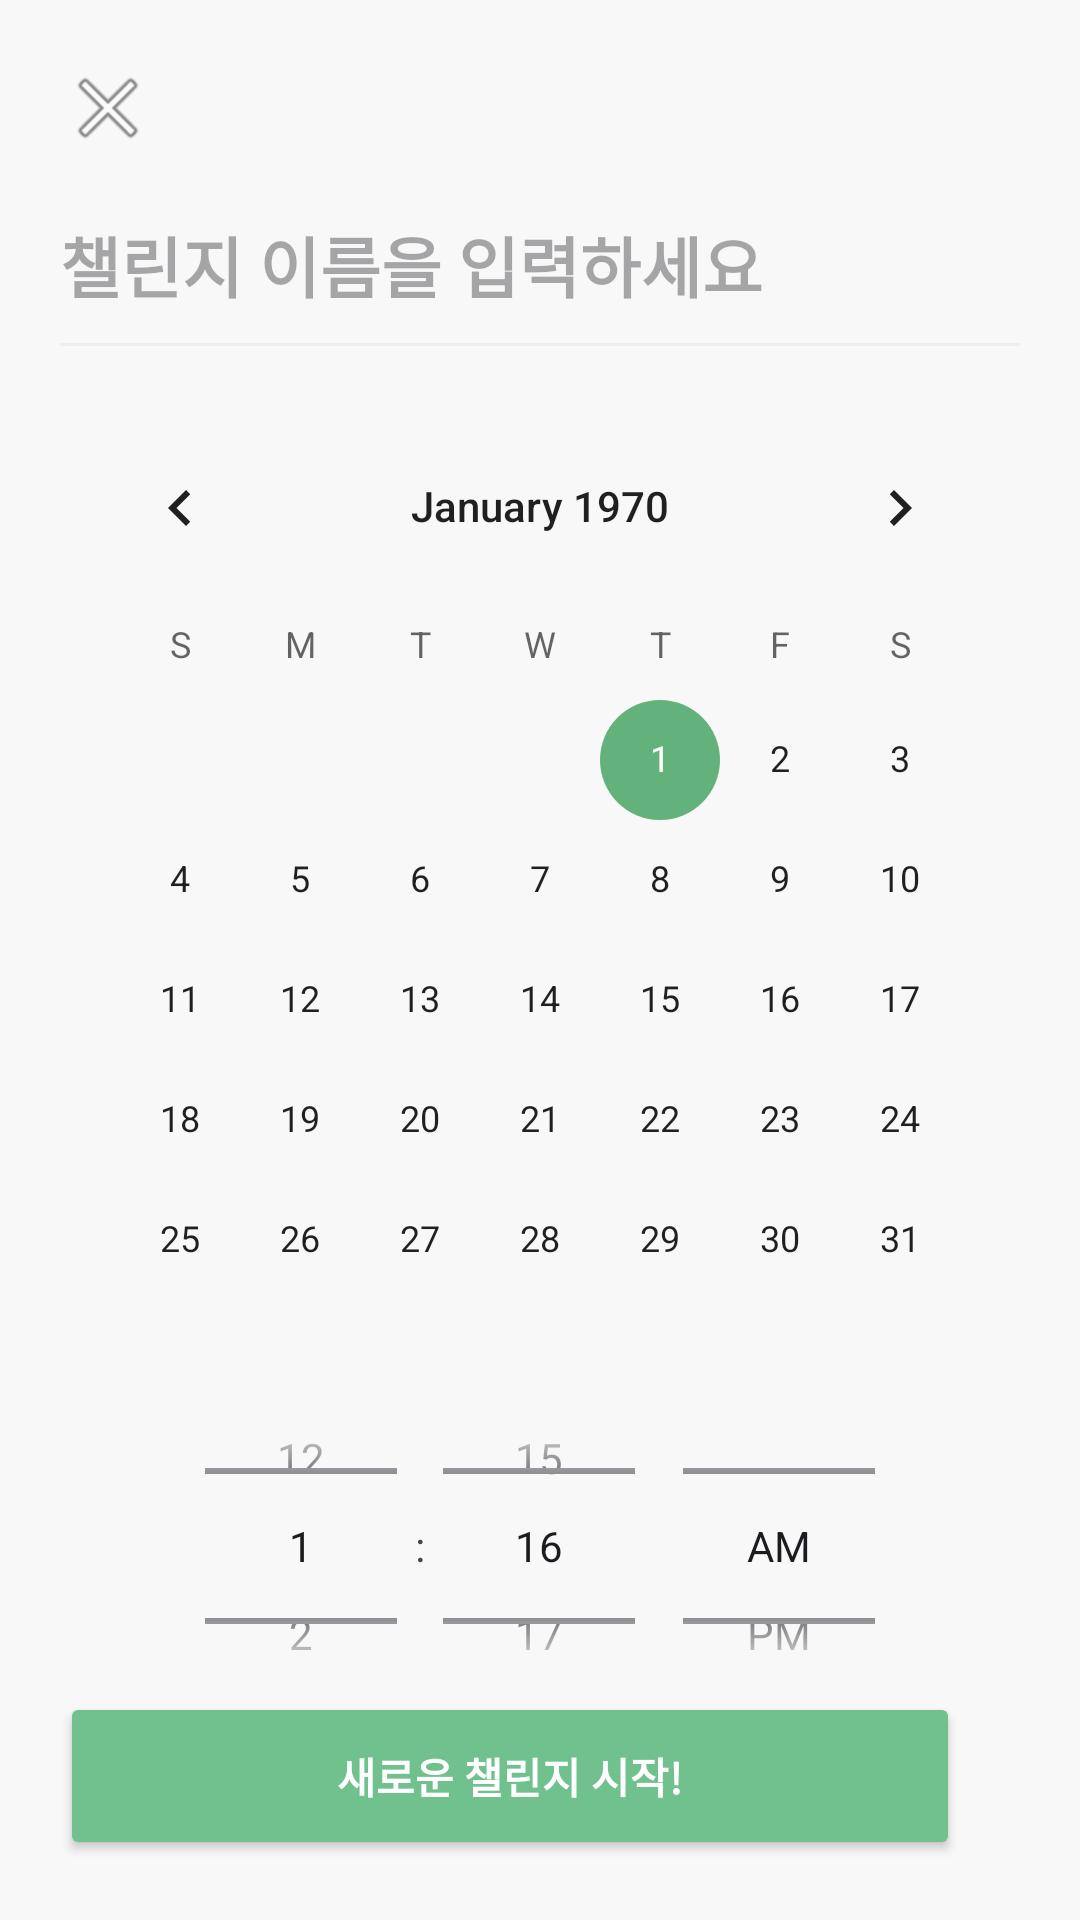

Named icons in this screenshot (1080×1920) and their centers, point (x, y):
close clear cancel: point (108, 108)
